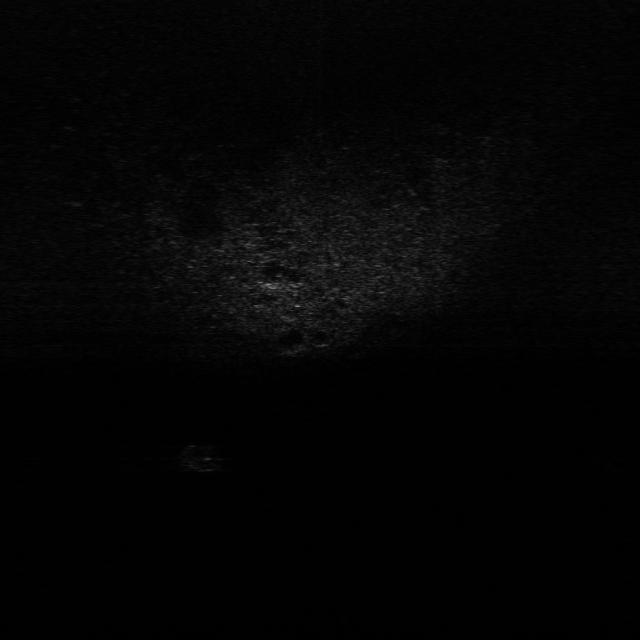circle cage: (180, 437, 230, 475)
